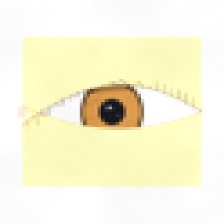pterygium_lesion: (24, 98, 57, 126)
